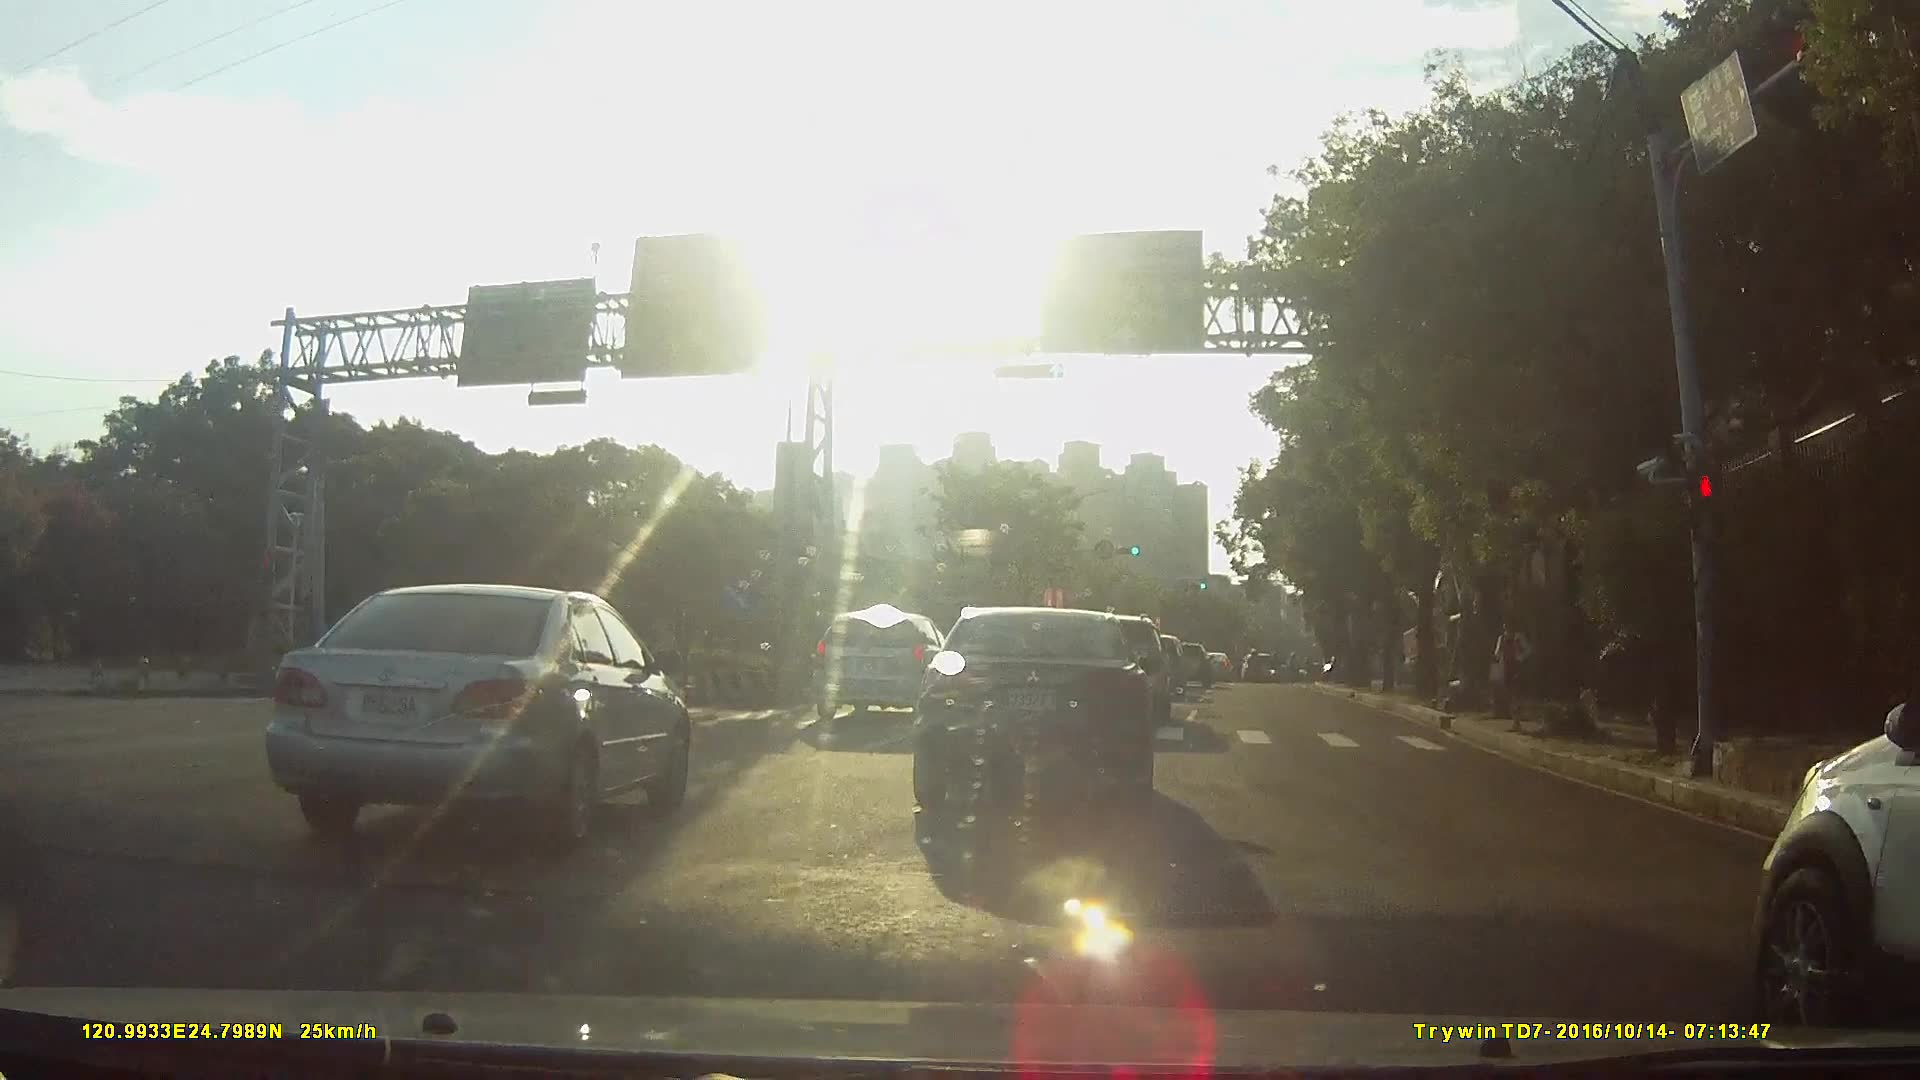pedestrian: (1484, 616, 1538, 732)
vehicle: (239, 578, 690, 851), (1691, 618, 1920, 1038), (892, 606, 1163, 817), (802, 606, 947, 720), (1155, 640, 1203, 687), (1191, 651, 1225, 679)
